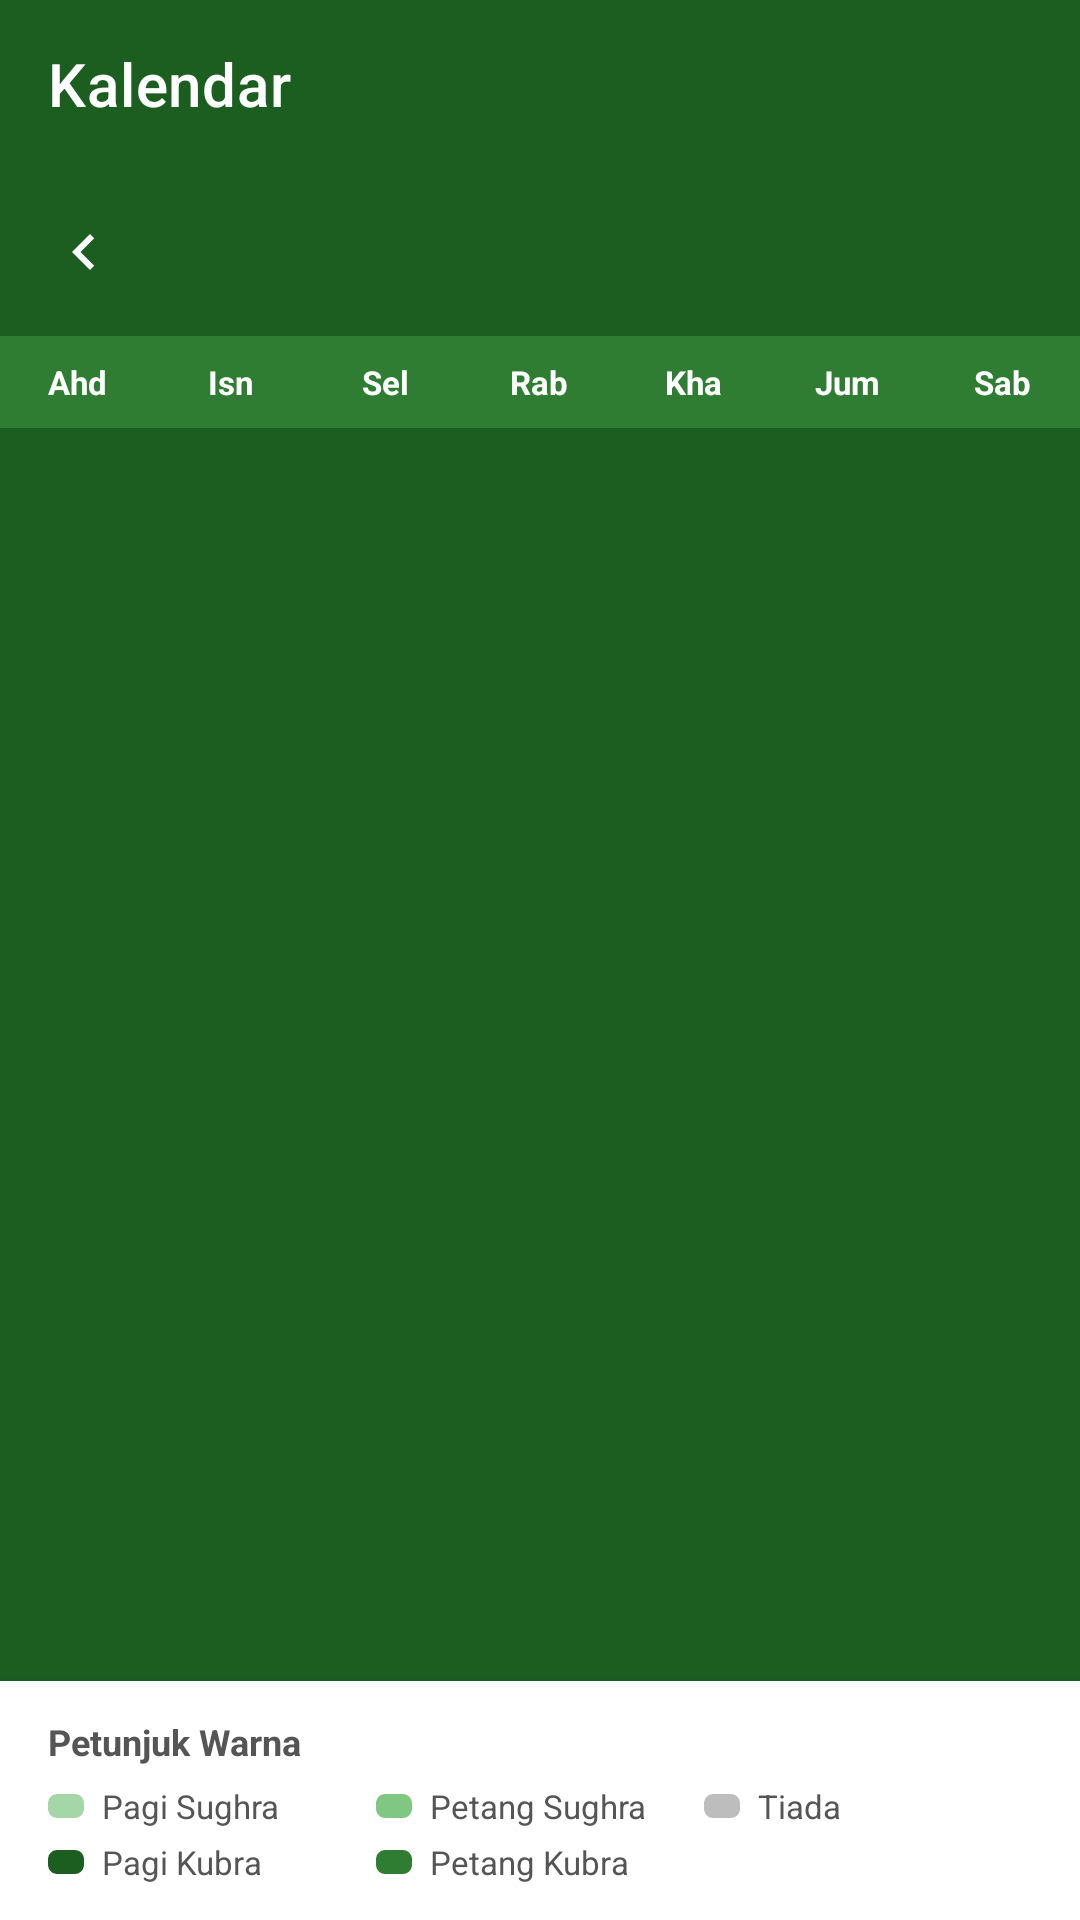

Screen size 1080w x 1920h. Icon name, then its center in pixels as (x,y):
Previous month: (83,252)
